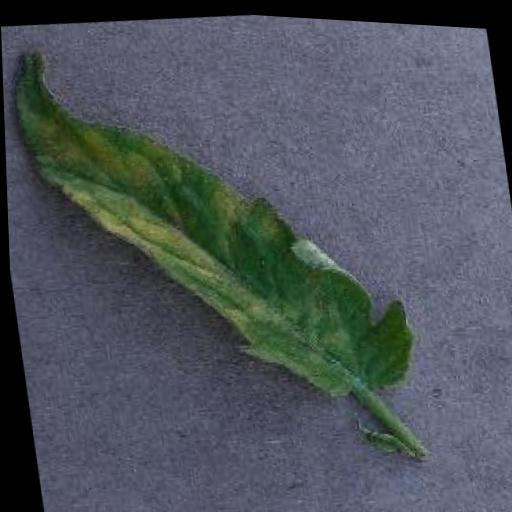Leaf Mold: (0, 12, 422, 428)
